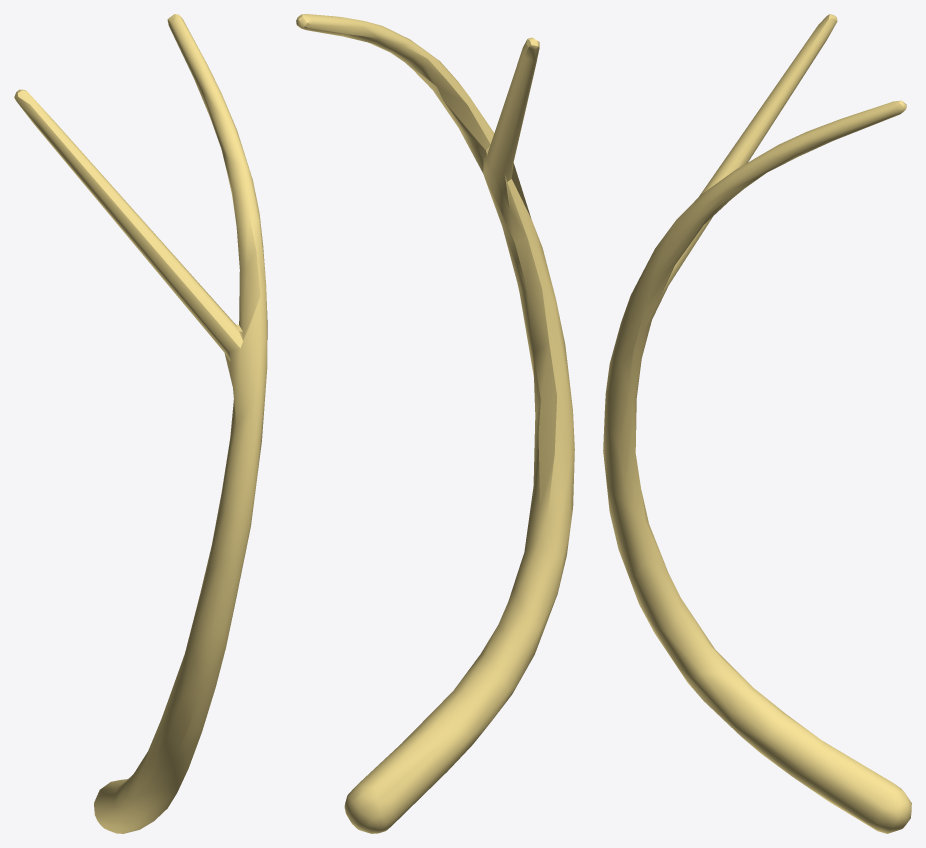
Rendered from fma52988_fj3944.glb.
The picture shows the model from 3 angles, left to right: view 1: azimuth 30°, elevation 25°; view 2: azimuth 150°, elevation 25°; view 3: azimuth 270°, elevation 25°; orthographic projection. The views are drawn at different scales.
Visible parts, largest first — view 1: FMA52988_FJ3944; view 2: FMA52988_FJ3944; view 3: FMA52988_FJ3944.
Boxes of the visible parts, bbox=[...] form: FMA52988_FJ3944: bbox=[14, 14, 267, 833]; FMA52988_FJ3944: bbox=[296, 14, 574, 833]; FMA52988_FJ3944: bbox=[603, 14, 911, 833].
Bounding box in the file's own units: 0.00422 × 0.0158 × 0.00582.
